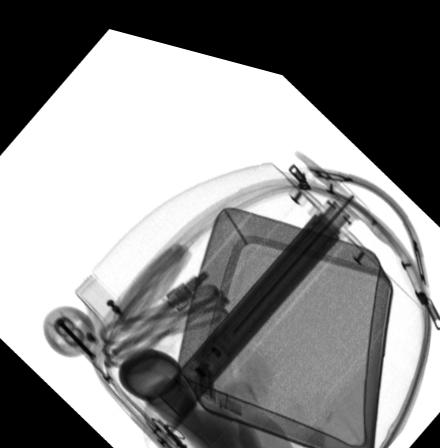Scissors: (149, 407, 193, 448)
